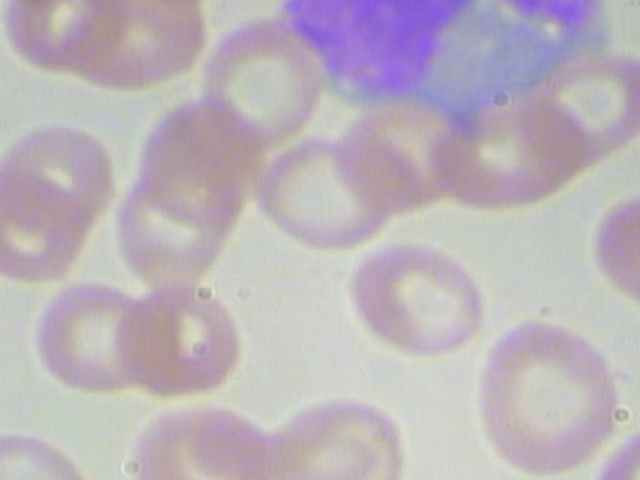RBC: (470, 314, 626, 476), (12, 275, 169, 401), (333, 232, 491, 357), (103, 279, 261, 404), (127, 97, 273, 226), (263, 131, 395, 255), (0, 109, 120, 225), (0, 162, 97, 291), (67, 0, 205, 90), (0, 0, 135, 74)
WBC: (291, 0, 617, 132)
